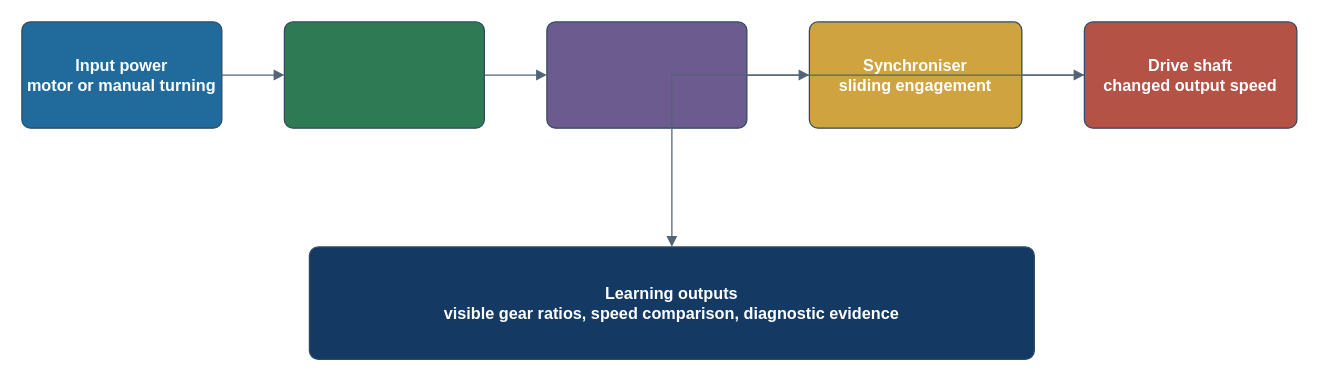
This 1319x381 diagram has some shape labels left out. Each missing label, with the box of its shape:
Countershaft ratio gear set: (546, 21, 747, 128)
Motor shaft first mesh gear: (283, 21, 484, 128)
